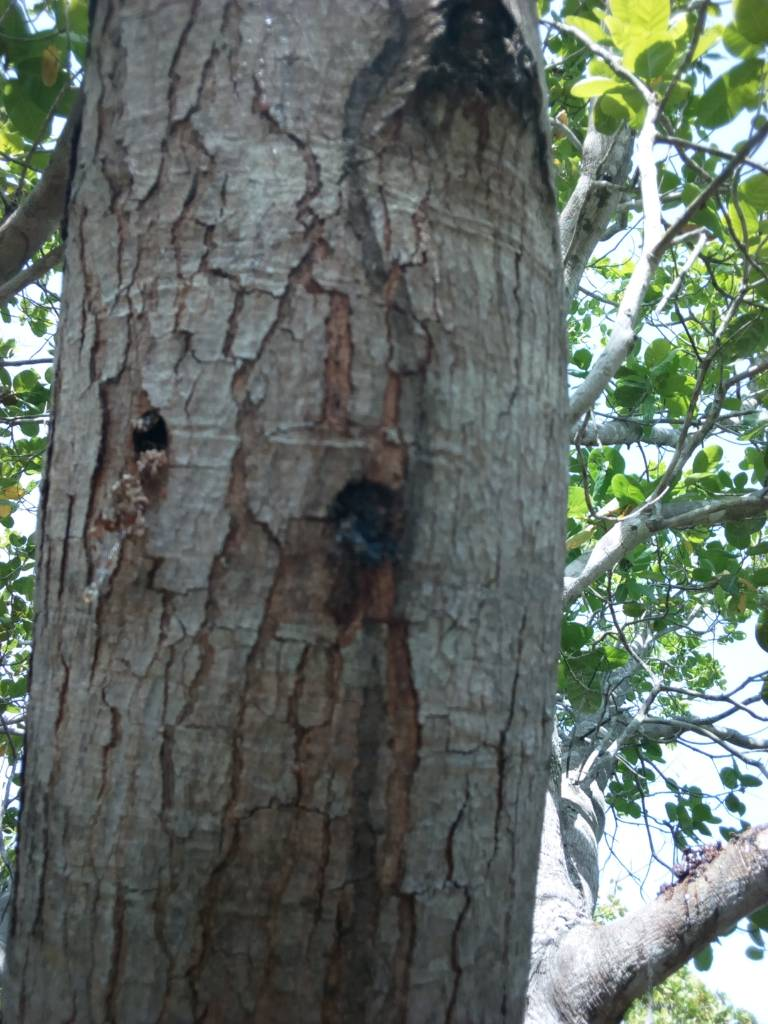Apate terebrans: (285, 450, 444, 616)
